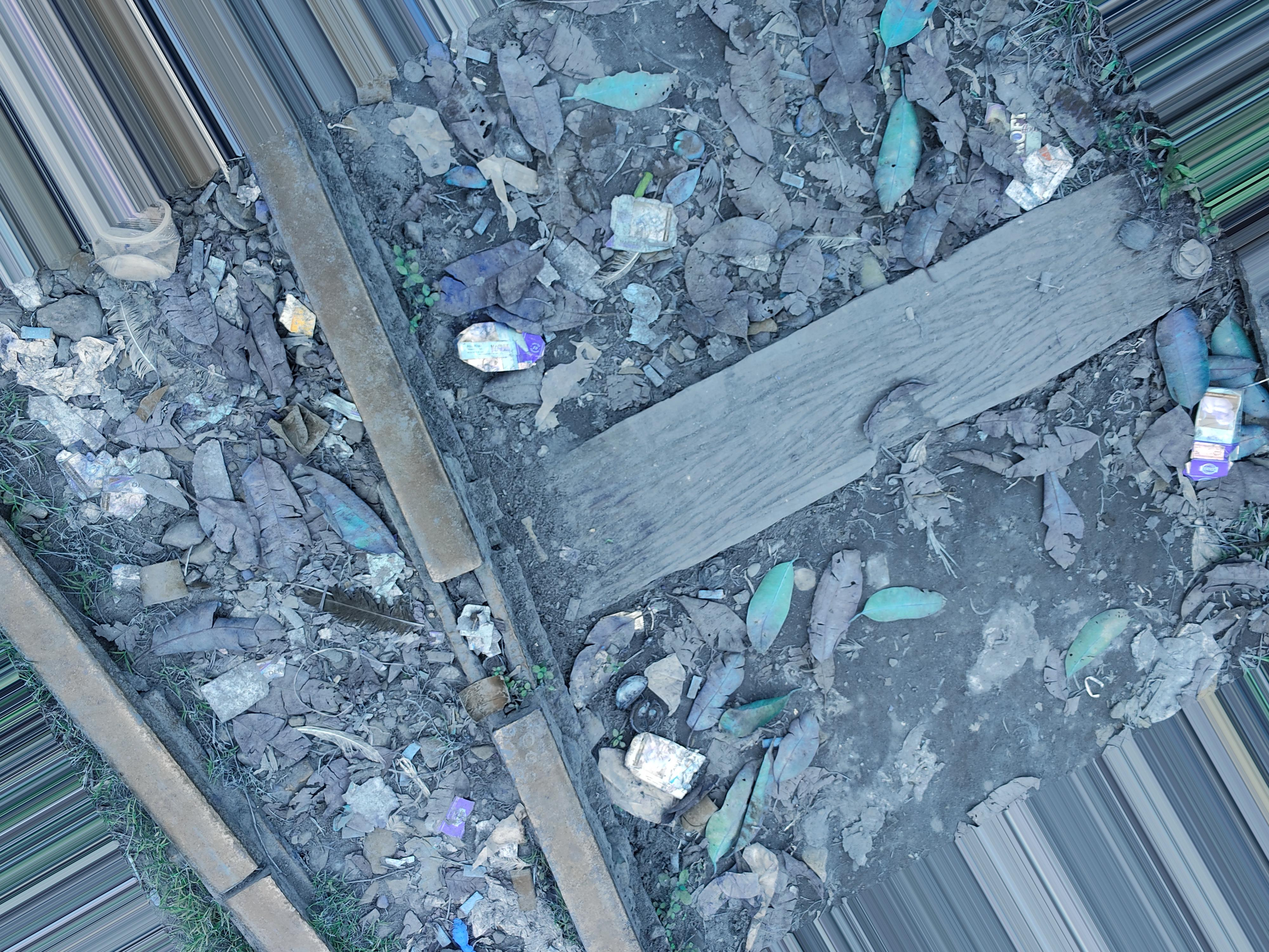tracks_fault: (422, 545, 570, 767)
